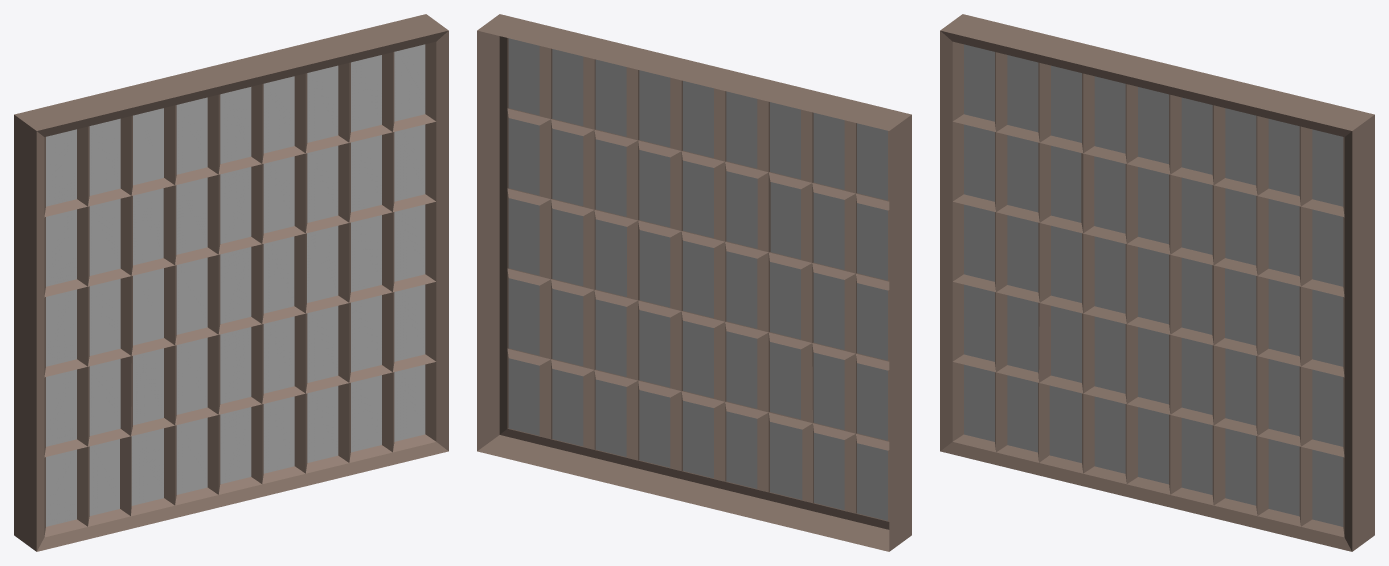
The model's file is wall_default_upper_single.fbx.
3 views of the same model, side by side, from view 1: azimuth 30°, elevation 25°; view 2: azimuth 150°, elevation 25°; view 3: azimuth 330°, elevation 25° (orthographic).
Visible parts, largest first — view 1: Wall_1_single8; view 2: Wall_1_single8; view 3: Wall_1_single8.
Part boxes in pixels (bbox=[...]): Wall_1_single8: bbox=[14, 14, 448, 551]; Wall_1_single8: bbox=[477, 14, 911, 551]; Wall_1_single8: bbox=[940, 14, 1374, 551].
Size of the model in its own units: 7.4 by 7.22 by 0.7031.
